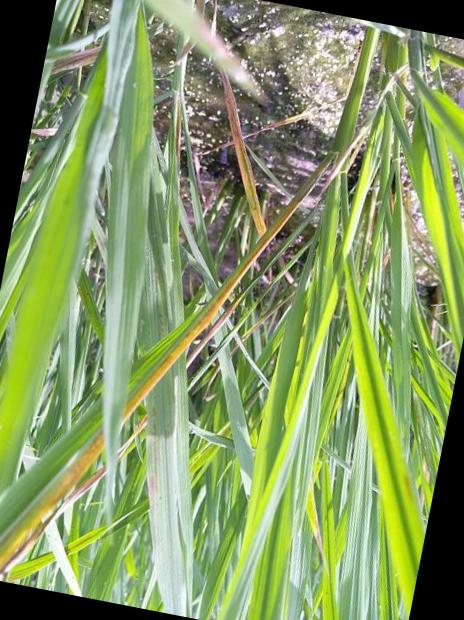Leaf Streak: (122, 154, 333, 420), (0, 427, 106, 573), (0, 467, 106, 578), (185, 298, 240, 367), (116, 415, 147, 459)
